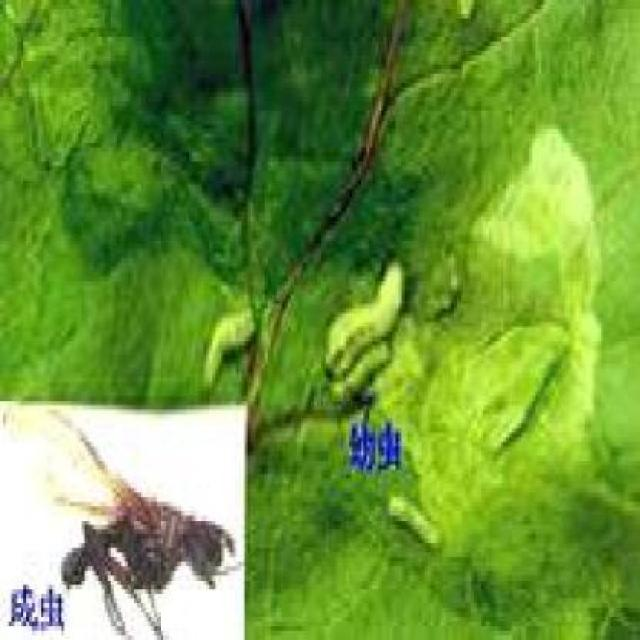whorl-maggot: (320, 252, 411, 406), (193, 280, 264, 397), (383, 482, 445, 562)
